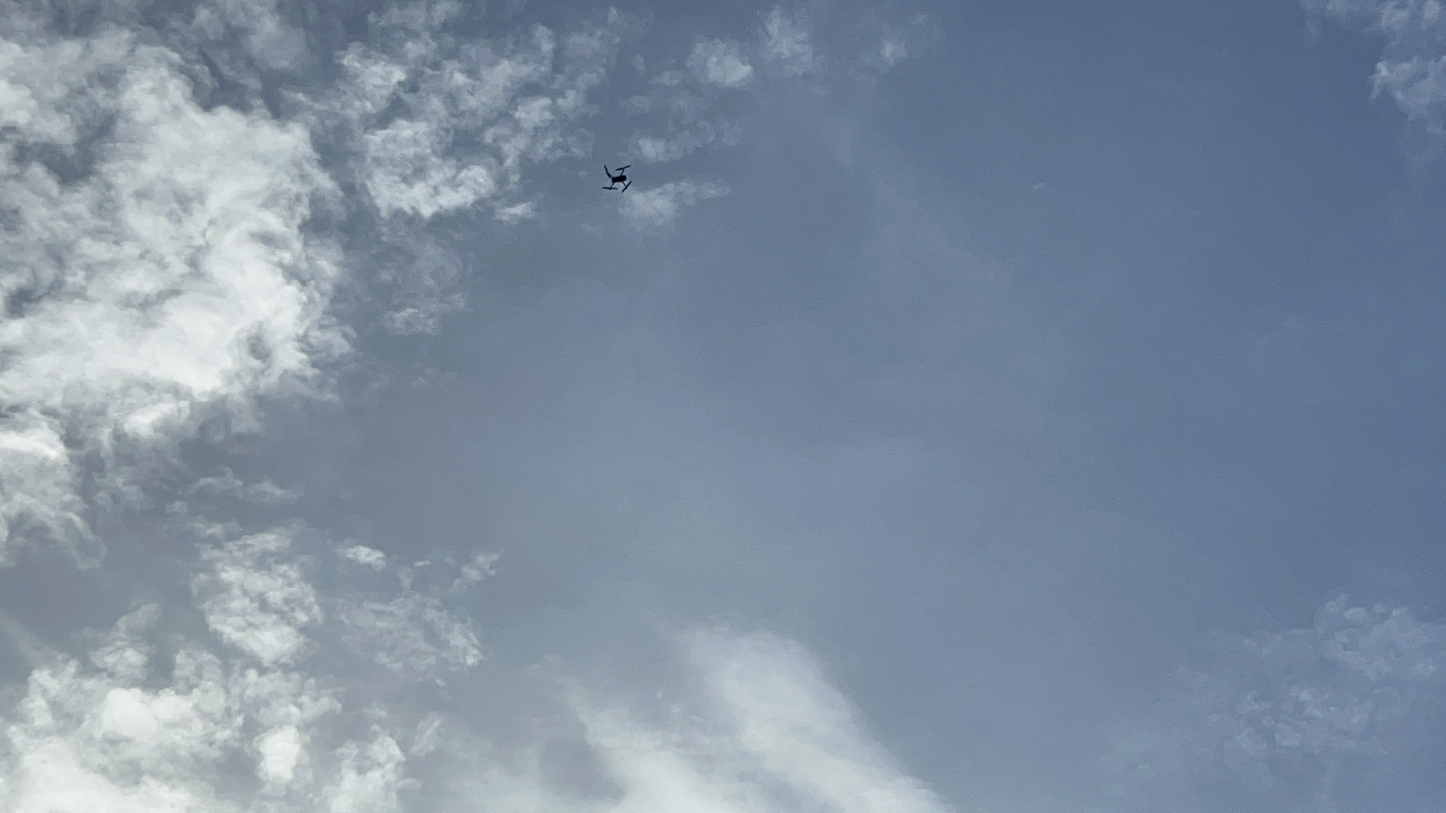drone_other: (601, 161, 633, 192)
